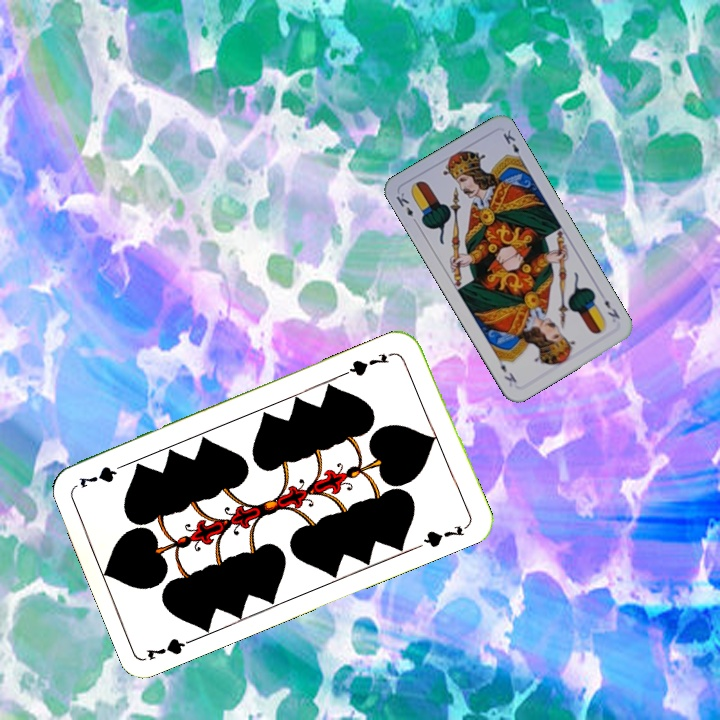EK: (392, 188, 421, 227), (600, 296, 623, 321)
G7: (142, 632, 202, 663), (342, 348, 399, 379)
